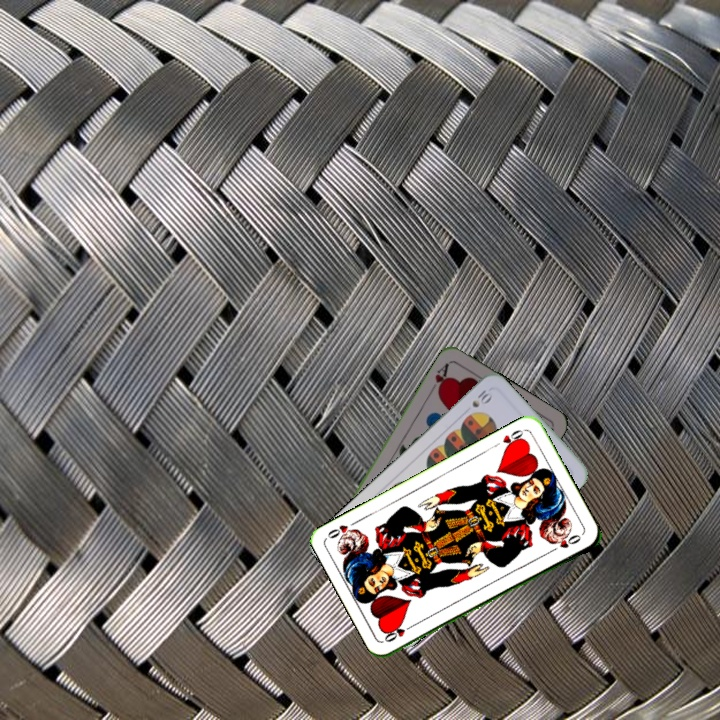HA: (426, 359, 452, 397)
HO: (489, 425, 527, 452), (380, 620, 418, 645)
S10: (468, 385, 495, 410)
